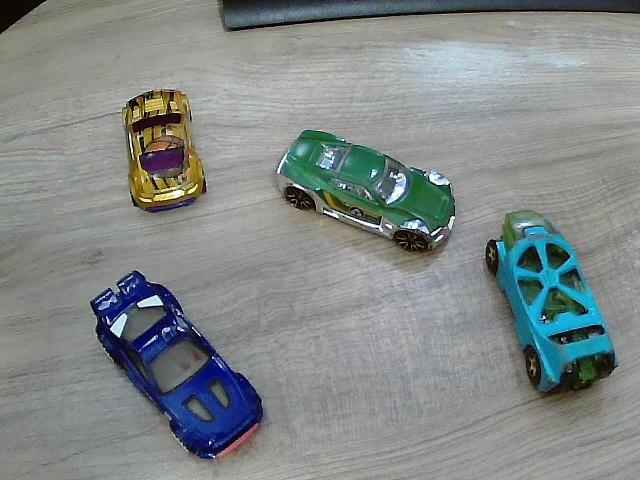Carro: (89, 272, 264, 462), (486, 211, 617, 396), (277, 133, 454, 249), (124, 91, 207, 212)
